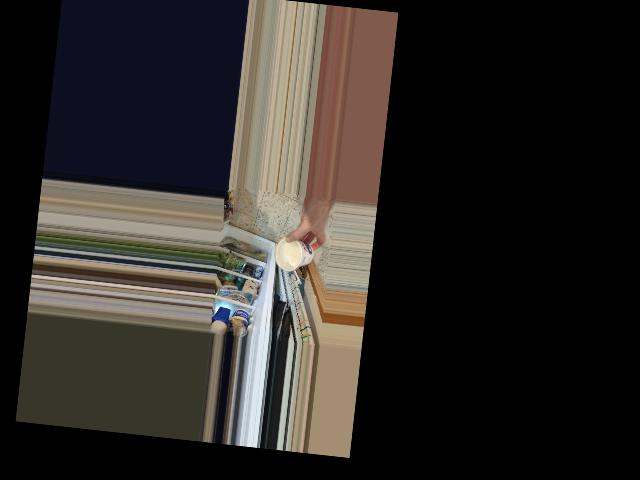cotage: (274, 235, 315, 273)
